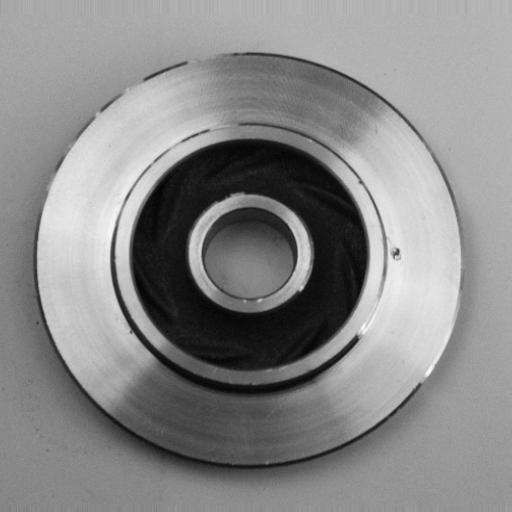crack: (387, 239, 407, 269)
scratch: (293, 225, 325, 302), (355, 288, 388, 357), (190, 113, 251, 139)
unpolished_casting: (35, 46, 467, 471)
